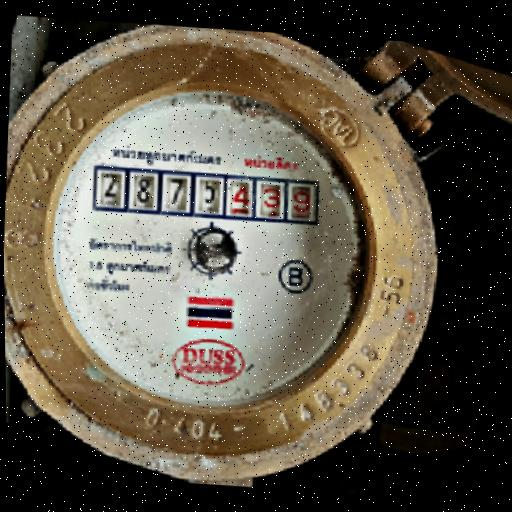2: (101, 173, 122, 206)
3: (259, 183, 281, 218)
4: (229, 182, 251, 217)
5: (200, 180, 220, 213)
7: (167, 177, 188, 211)
8: (133, 175, 156, 209)
9: (290, 187, 312, 218)
border_water_meter_number: (93, 164, 322, 226)
